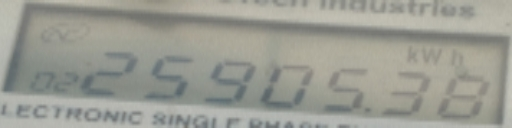0: (259, 43, 316, 110)
2: (79, 38, 139, 97)
3: (378, 63, 430, 116)
5: (143, 42, 197, 103), (317, 53, 368, 117)
8: (434, 69, 491, 123)
9: (201, 44, 256, 108)
d: (362, 102, 377, 116)
